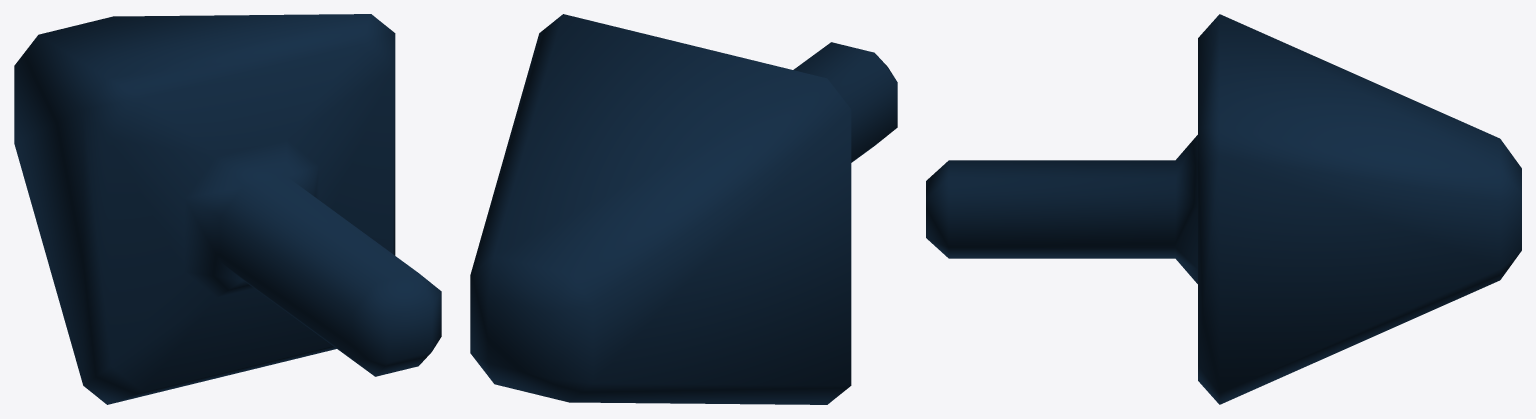
File: testobject.glb
The picture shows the model from 3 angles, left to right: view 1: azimuth 30°, elevation 25°; view 2: azimuth 150°, elevation 25°; view 3: azimuth 270°, elevation 25°; orthographic projection. The views are drawn at different scales.
Visible parts, largest first — view 1: Cube; view 2: Cube; view 3: Cube.
Boxes of the visible parts, box(x1,y1,x2,y2) form: Cube: box(14, 14, 441, 404); Cube: box(470, 14, 897, 404); Cube: box(926, 14, 1521, 404).
Size of the model in its own units: 1.91 by 1.91 by 3.68.
